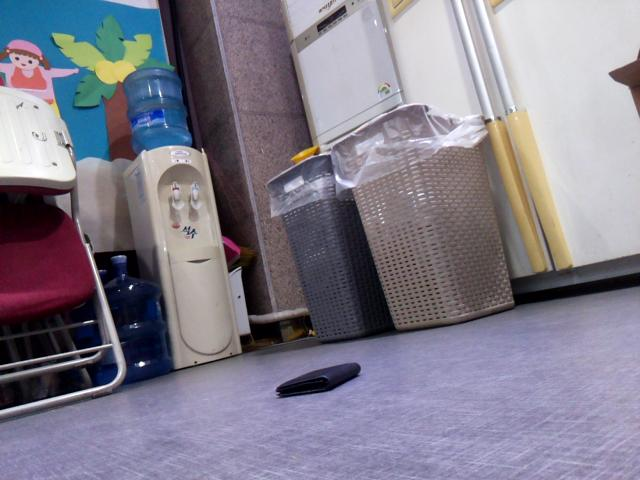wallet: (271, 359, 369, 403)
